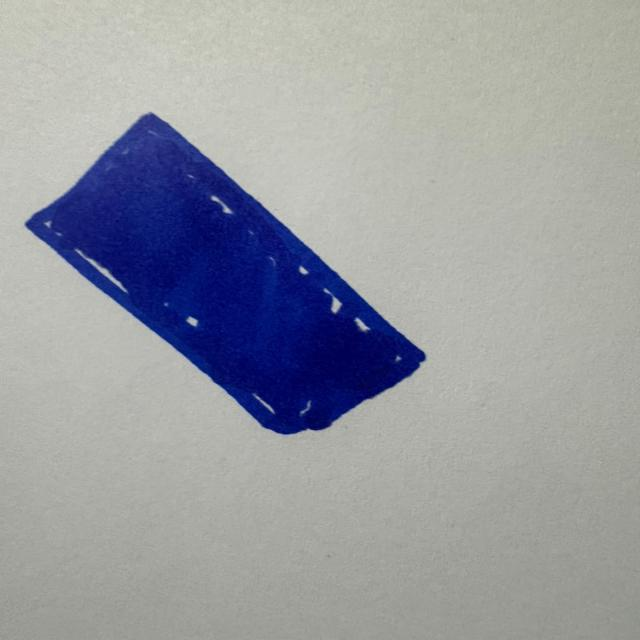Rectangle: (25, 114, 425, 434)
